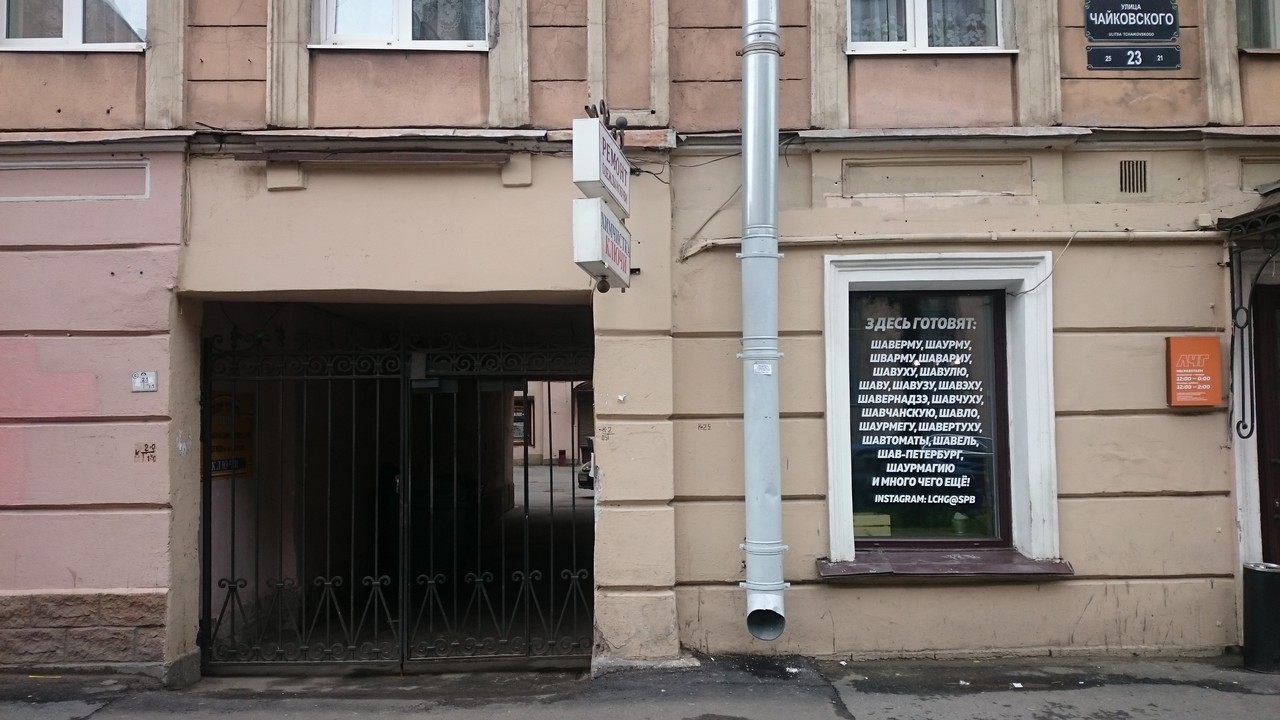arch: (169, 288, 596, 674)
cantilever: (572, 97, 648, 297)
window: (853, 288, 1011, 554)
